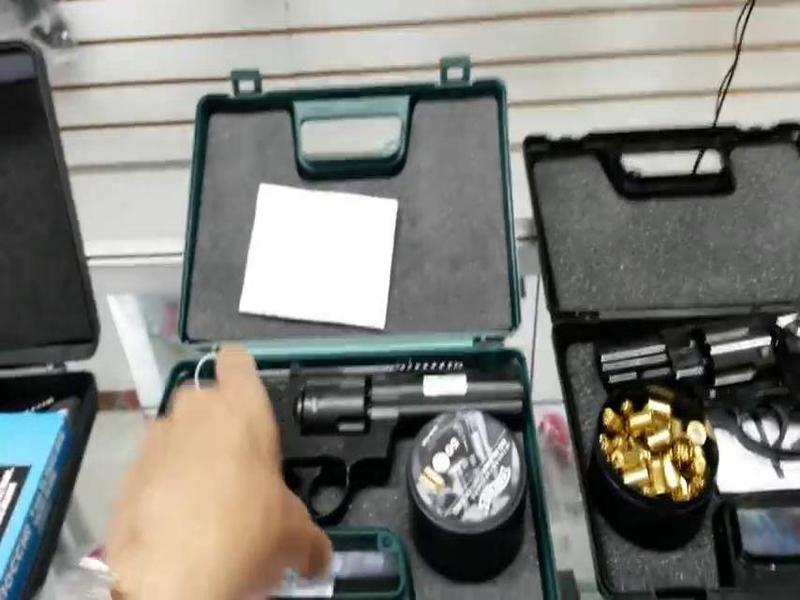Revolver: (227, 326, 557, 556), (592, 290, 800, 475)
